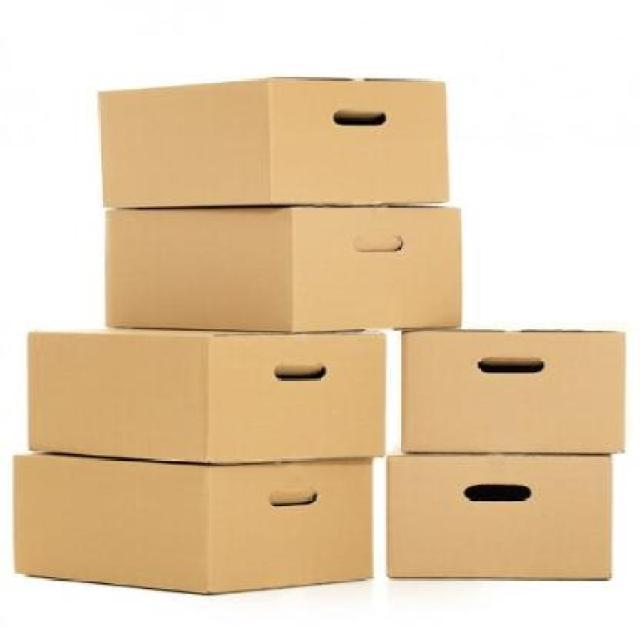BoxFace: (387, 454, 615, 582), (403, 332, 623, 454), (268, 77, 452, 206), (205, 456, 373, 596), (210, 332, 384, 463), (288, 206, 463, 334)
